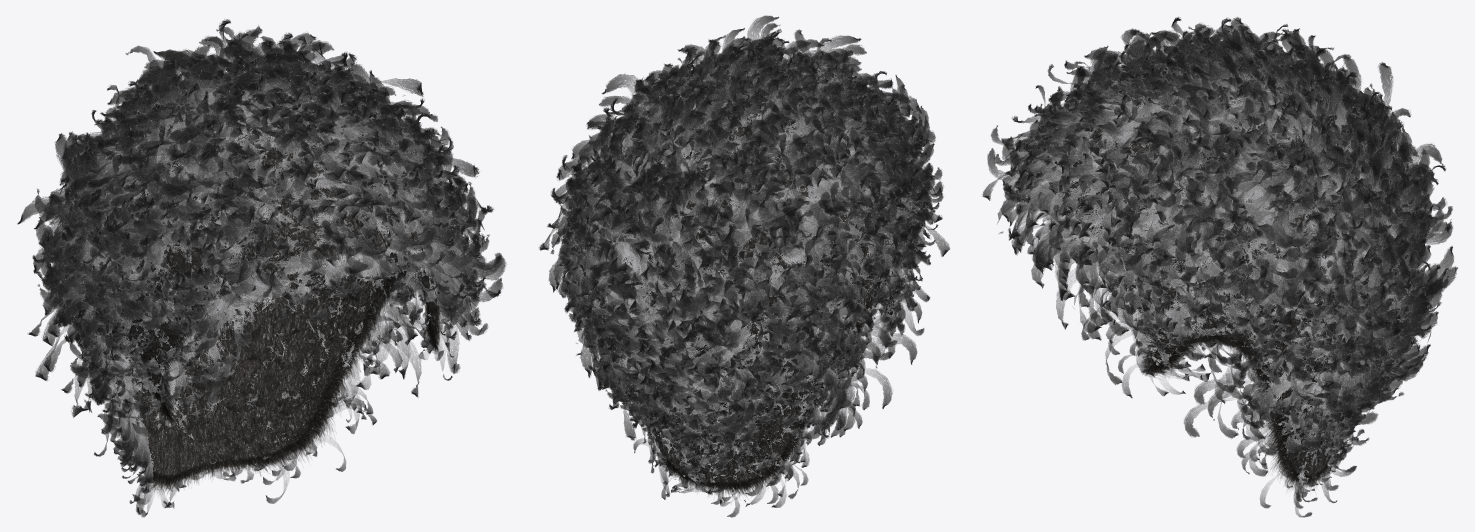
The model's file is male.glb.
The picture shows the model from 3 angles, left to right: view 1: azimuth 30°, elevation 25°; view 2: azimuth 150°, elevation 25°; view 3: azimuth 270°, elevation 25°; orthographic projection. The views are drawn at different scales.
Parts seen in each view (by area): view 1: Object_2, Object_3, Object_4; view 2: Object_2, Object_3, Object_4; view 3: Object_2, Object_3, Object_4.
Boxes of the visible parts, x1,y1,x2,y2 form: Object_2: [33, 19, 506, 504]; Object_3: [17, 36, 442, 517]; Object_4: [106, 119, 443, 495]; Object_2: [539, 23, 943, 501]; Object_3: [582, 15, 949, 517]; Object_4: [623, 113, 894, 504]; Object_2: [982, 18, 1450, 517]; Object_3: [987, 17, 1457, 490]; Object_4: [1045, 97, 1340, 494].
Size of the model in its own units: 22.53 by 26.38 by 24.5.
Materials: 2 (2 with a texture image).
